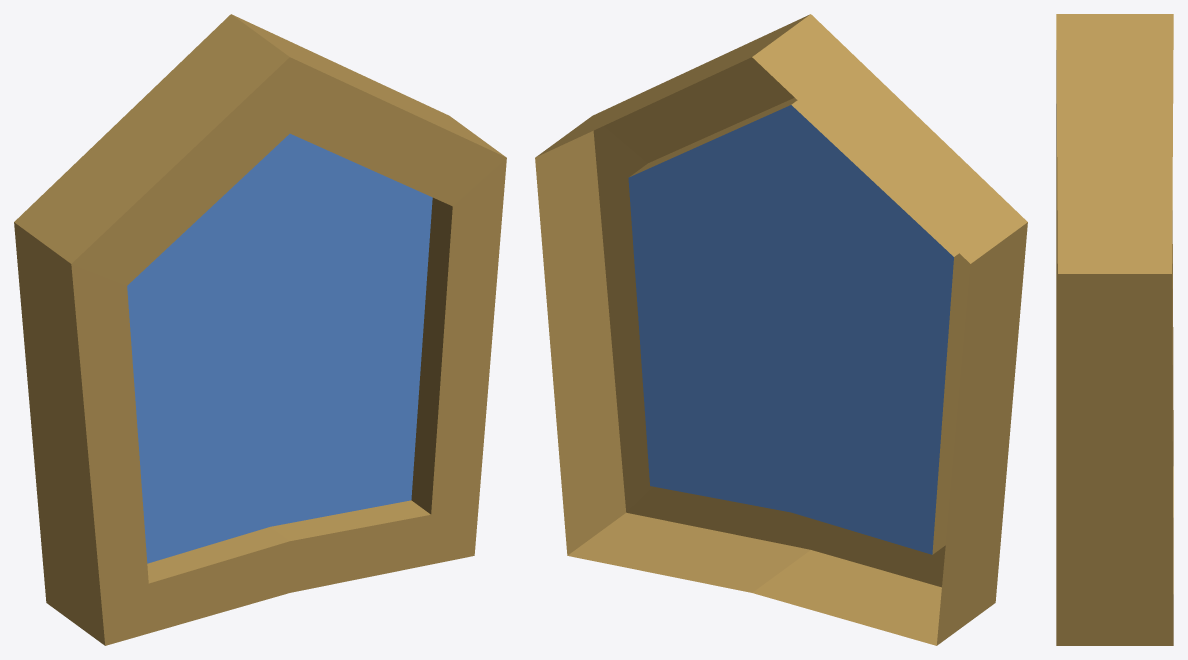
The model's file is Props.fbx_Window.fbx_Window.fbx.
3 views of the same model, side by side, from view 1: azimuth 30°, elevation 25°; view 2: azimuth 150°, elevation 25°; view 3: azimuth 270°, elevation 25° (orthographic).
Parts seen in each view (by area): view 1: Window; view 2: Window; view 3: Window.
Boxes of the visible parts, x1,y1,x2,y2 form: Window: (14,14,506,645); Window: (535,14,1027,645); Window: (1056,14,1173,645).
Size of the model in its own units: 1.14 by 1.36 by 0.2662.
